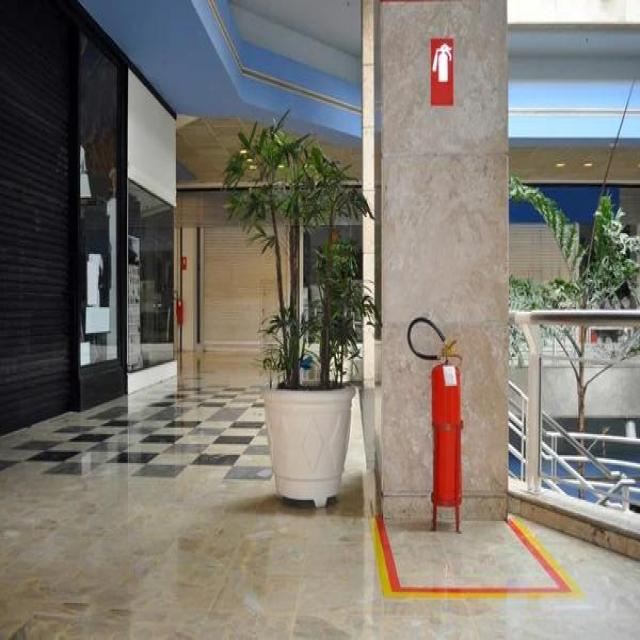fire_extinguisher: (402, 307, 466, 511), (167, 287, 184, 330)
